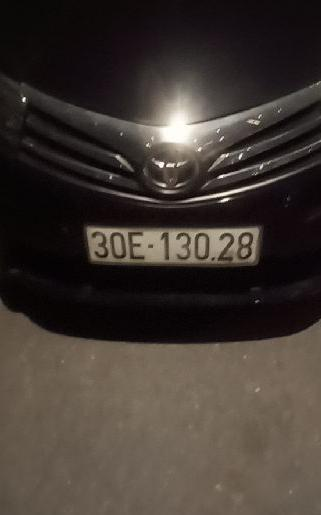Plate-iWeP: (89, 228, 260, 265)
